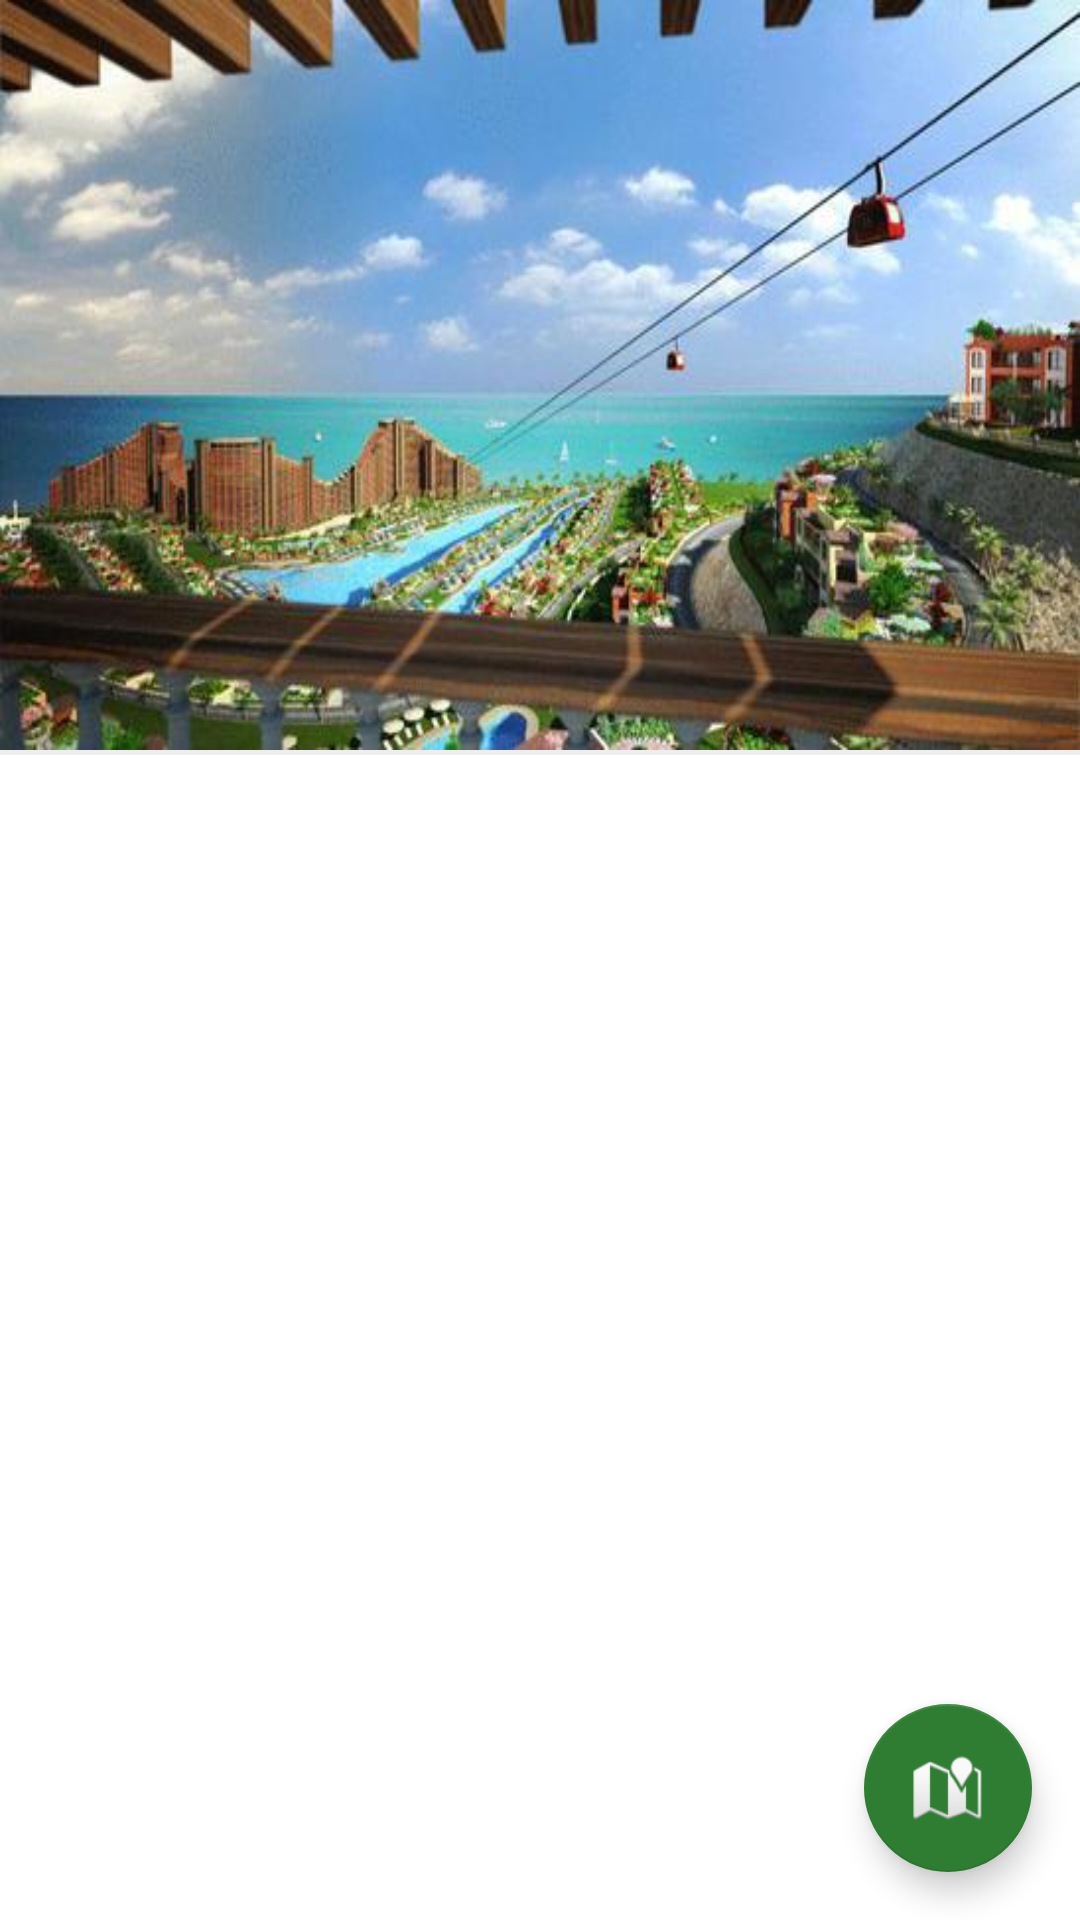

Icon click points for this 1080px x 1920px phone screenshot, format (x,y):
map: (948,1788)
